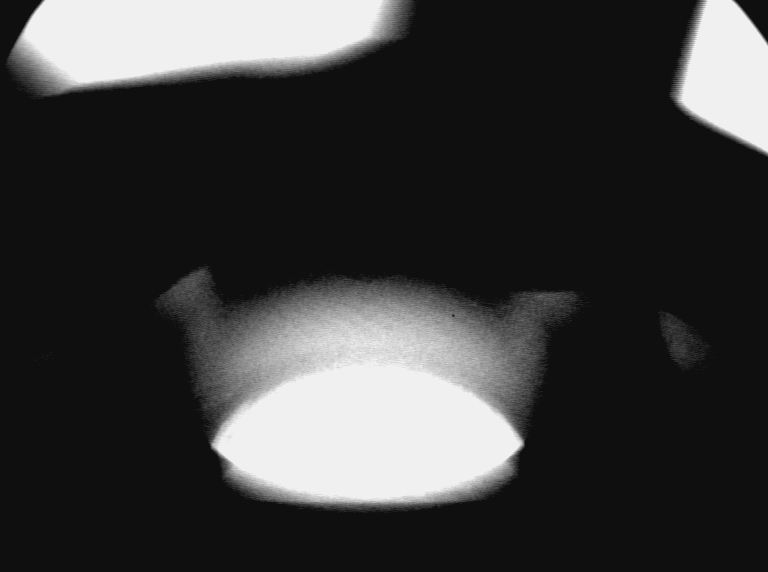defect: (158, 265, 218, 335)
